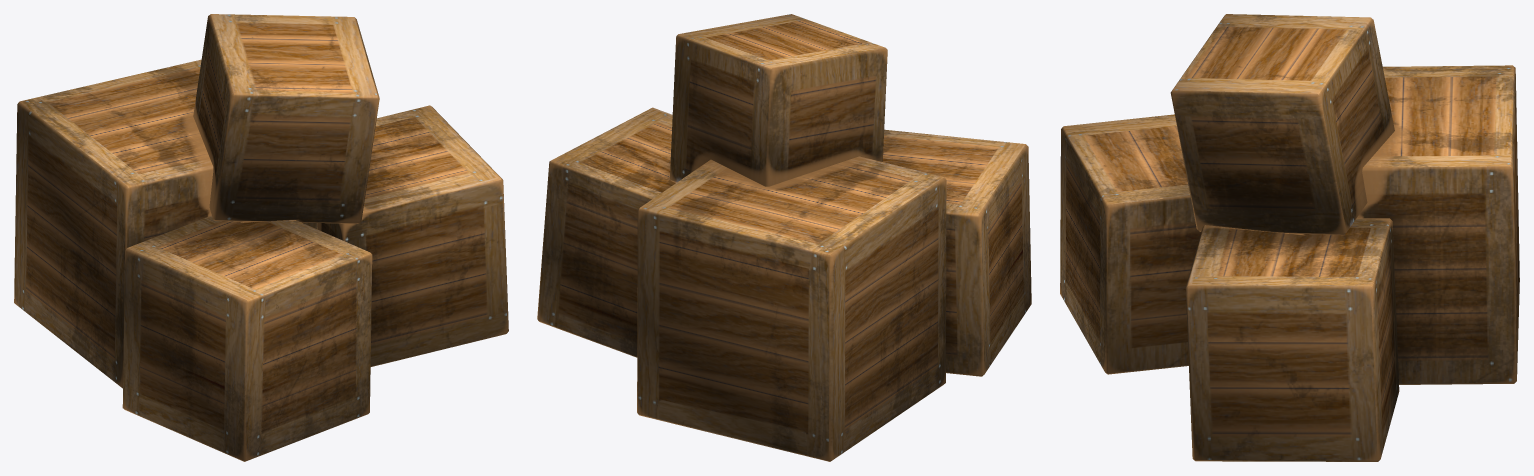
File: SM_WBT_courtBoxes_low.fbx
3 renders of one model, left to right at view 1: azimuth 30°, elevation 25°; view 2: azimuth 150°, elevation 25°; view 3: azimuth 270°, elevation 25°, orthographic. The views are drawn at different scales.
Parts seen in each view (by area): view 1: SM_WBT_courtBoxes_low; view 2: SM_WBT_courtBoxes_low; view 3: SM_WBT_courtBoxes_low.
Part boxes in pixels (x1,y1,x2,y2): SM_WBT_courtBoxes_low: [14, 14, 508, 461]; SM_WBT_courtBoxes_low: [537, 14, 1031, 461]; SM_WBT_courtBoxes_low: [1060, 14, 1519, 461].
Bounding box in the file's own units: 203 × 199 × 164.
